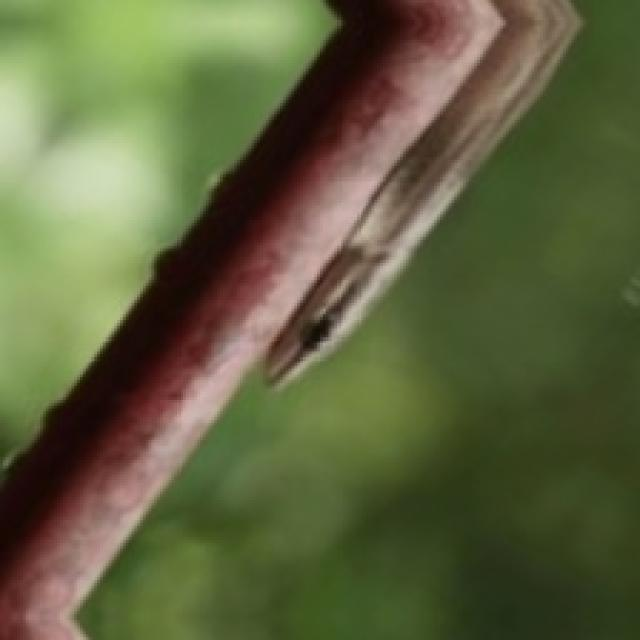red-tailed green ratsnake: (266, 0, 577, 380)
